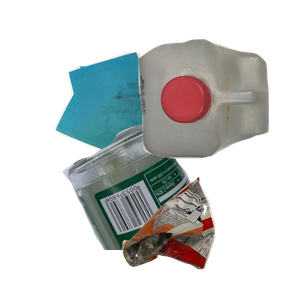glass: (60, 120, 300, 300)
paper: (52, 49, 209, 198)
plastic: (136, 37, 300, 188)
trash: (120, 174, 300, 300)
